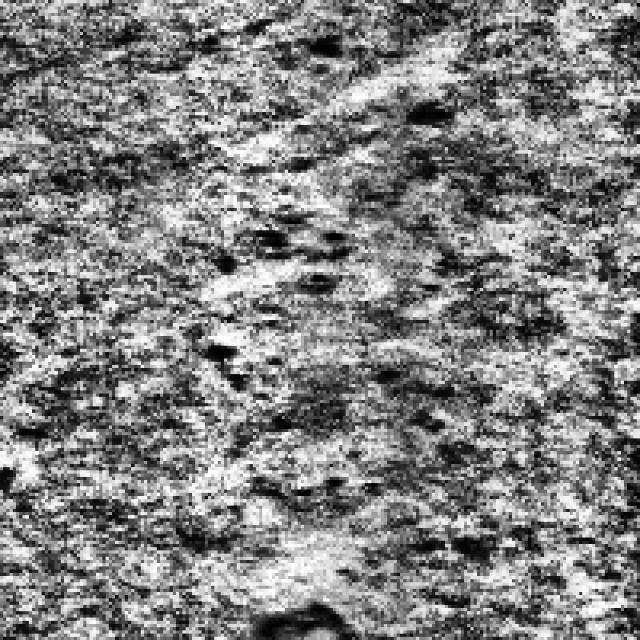Crazing: (288, 348, 502, 586), (192, 192, 342, 374)
